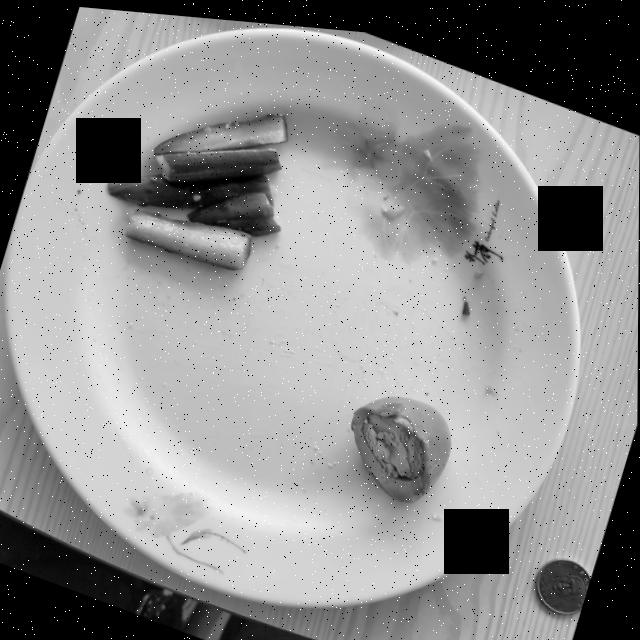coin: (536, 547, 591, 603)
cucumber: (107, 108, 288, 266)
soy egg: (351, 389, 452, 495)
